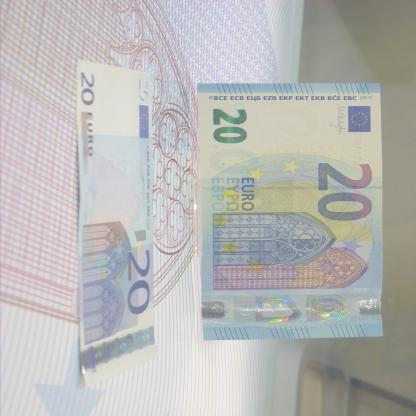euro_banknote: (164, 119, 416, 303)
